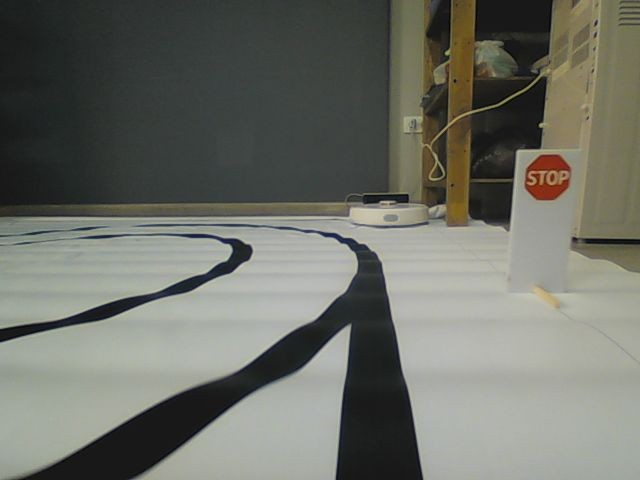Stop: (523, 153, 573, 203)
